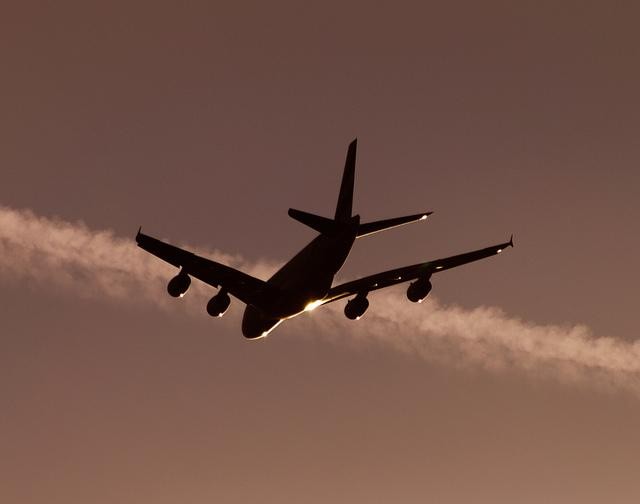airplane: (132, 134, 515, 343)
